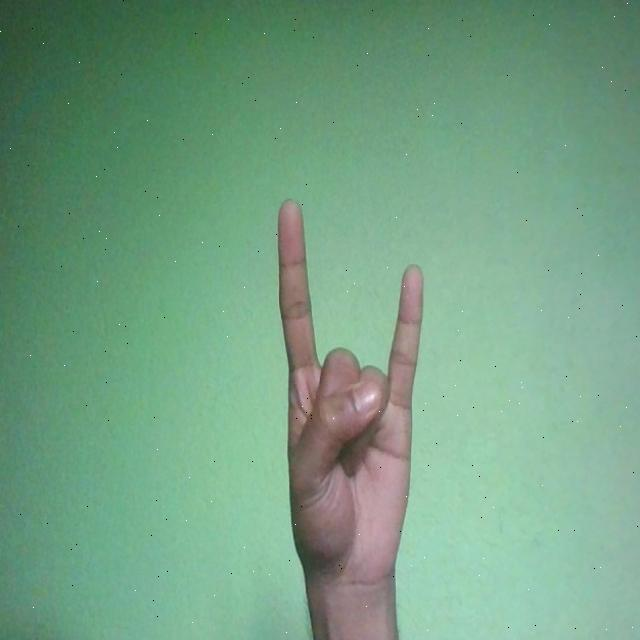open Plam: (277, 198, 425, 600)
